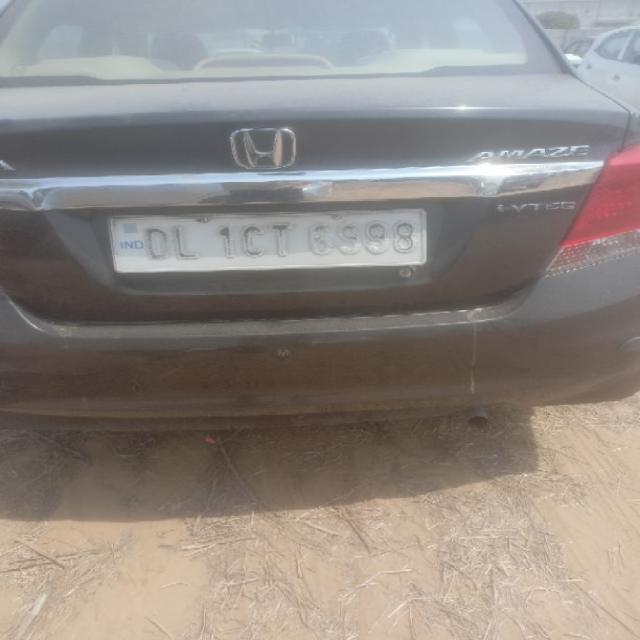license_plate: (105, 207, 428, 275)
